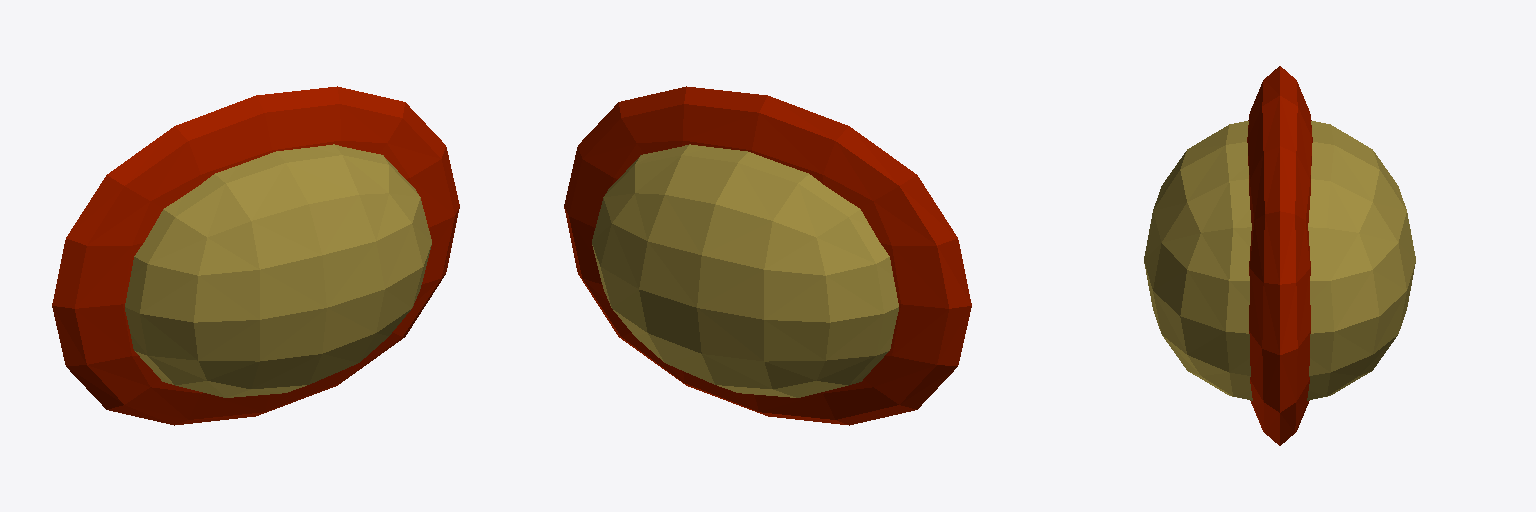
The model's file is flame.obj.
The picture shows the model from 3 angles: view 1: azimuth 30°, elevation 25°; view 2: azimuth 150°, elevation 25°; view 3: azimuth 270°, elevation 25°; orthographic projection.
Parts seen in each view (by area): view 1: Flame_Cube.1471; view 2: Flame_Cube.1471; view 3: Flame_Cube.1471.
Boxes of the visible parts, x1=… form: Flame_Cube.1471: x1=52, y1=86, x2=459, y2=425; Flame_Cube.1471: x1=564, y1=86, x2=971, y2=425; Flame_Cube.1471: x1=1144, y1=66, x2=1415, y2=445.
Size of the model in its own units: 1.22 by 0.9136 by 0.7028.